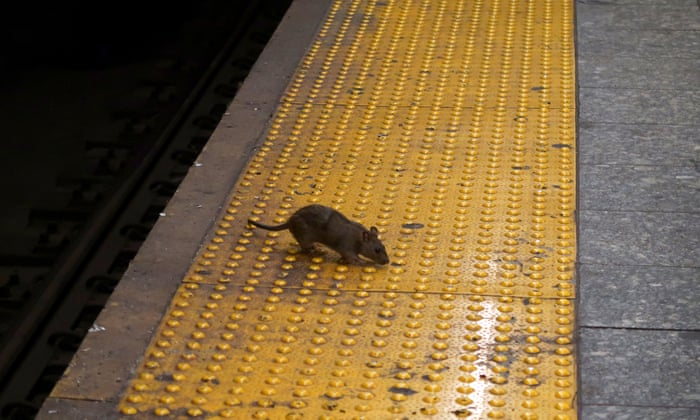Rat: (248, 194, 399, 273)
